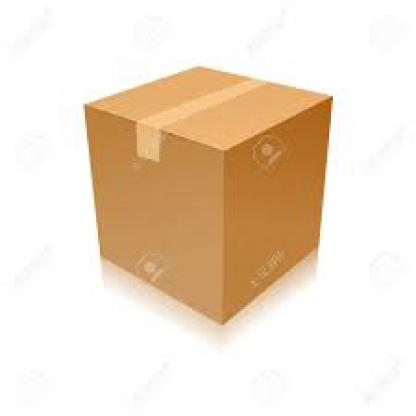paquete: (70, 61, 335, 327)
